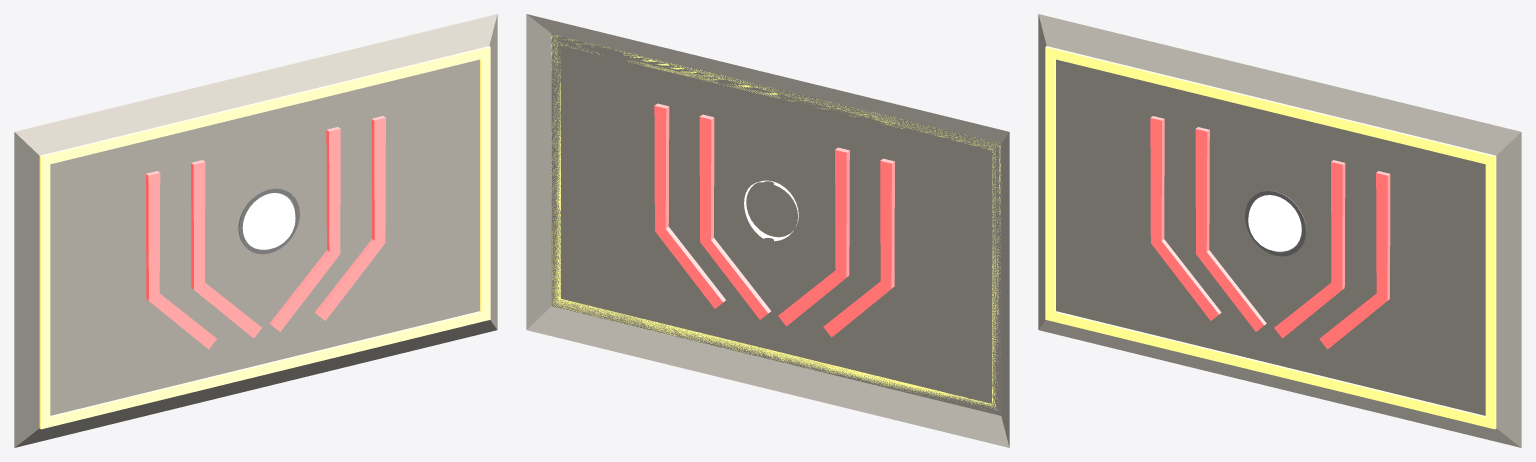
File: ddddddd.fbx
3 renders of one model, left to right at view 1: azimuth 30°, elevation 25°; view 2: azimuth 150°, elevation 25°; view 3: azimuth 330°, elevation 25°, orthographic.
Visible parts, largest first — view 1: новый коридор.002, новый коридор.003, стекло на двери.001, стекло на двери, Sphere.002, Circle.017; view 2: новый коридор.002, новый коридор.003, стекло на двери, стекло на двери.001; view 3: новый коридор.002, новый коридор.003, стекло на двери, стекло на двери.001, Sphere.002, Circle.017.
Part boxes in pixels (x1,y1,x2,y2): новый коридор.002: (14, 14, 497, 447); новый коридор.003: (39, 46, 490, 429); стекло на двери.001: (191, 127, 340, 337); стекло на двери: (146, 116, 385, 349); Sphere.002: (242, 193, 295, 249); Circle.017: (238, 188, 299, 254); новый коридор.002: (526, 14, 1009, 447); новый коридор.003: (551, 35, 1001, 409); стекло на двери: (654, 103, 894, 337); стекло на двери.001: (699, 114, 849, 326); новый коридор.002: (1038, 14, 1521, 447); новый коридор.003: (1045, 46, 1496, 429); стекло на двери: (1150, 116, 1390, 349); стекло на двери.001: (1195, 127, 1345, 338); Sphere.002: (1248, 195, 1301, 251); Circle.017: (1245, 190, 1306, 256).
Bounding box in the file's own units: 152 × 95.17 × 10.82.
